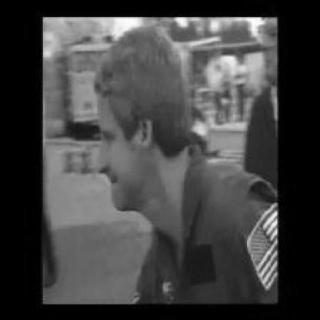other: (59, 32, 127, 124)
